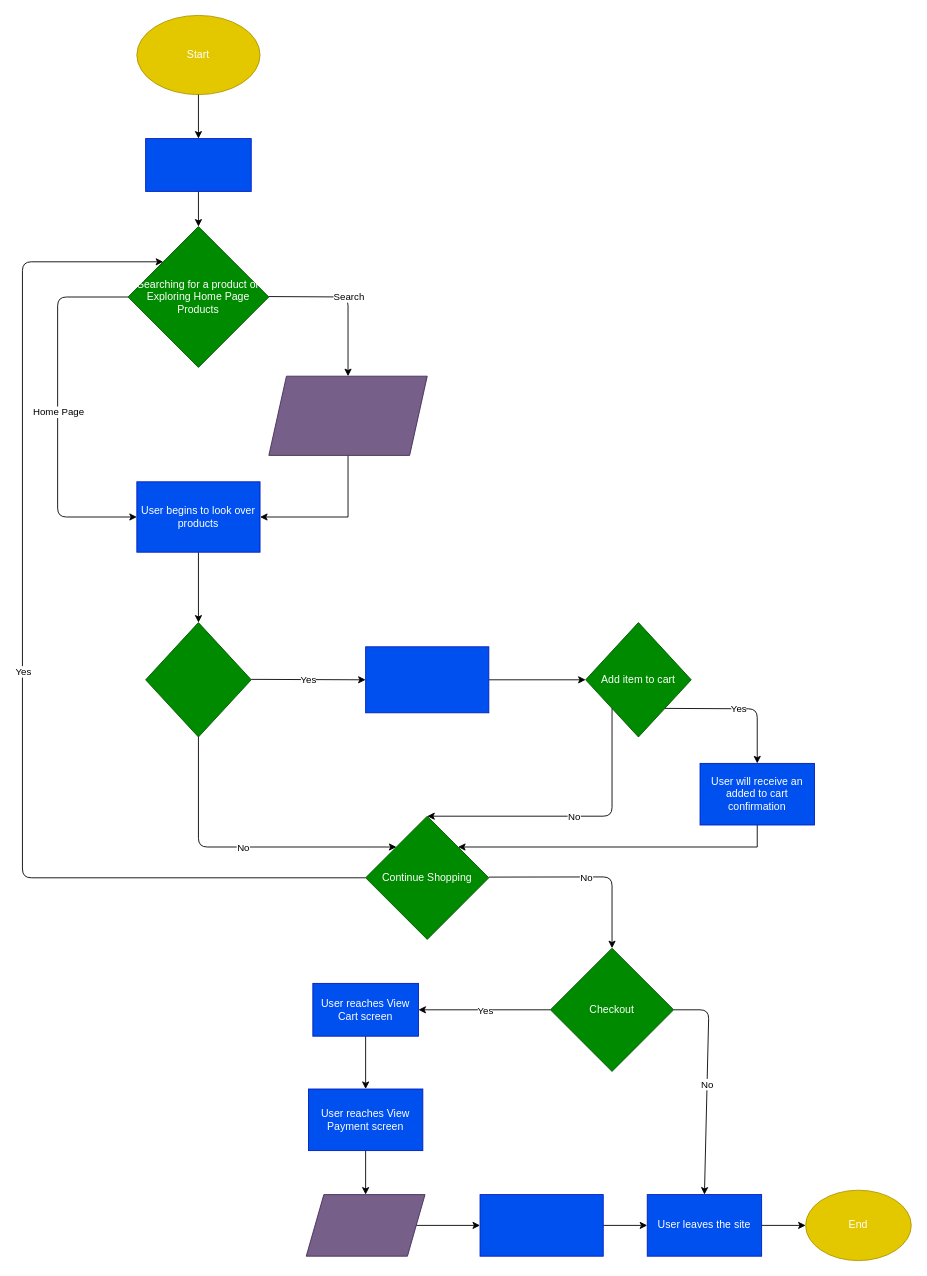
Some shapes in this 927 by 1276 pixel diagram are drawn without their labels. Here are the shapes that lost their labels. From the top down, the centre of each, then its label:
pixel 198 164: User enetering the site
pixel 347 415: User provides input for their search
pixel 198 679: View a specific product
pixel 427 679: Product's Webpage will open
pixel 365 1225: User inputs their payment information
pixel 541 1225: User receives an email and sees confirmation screen
